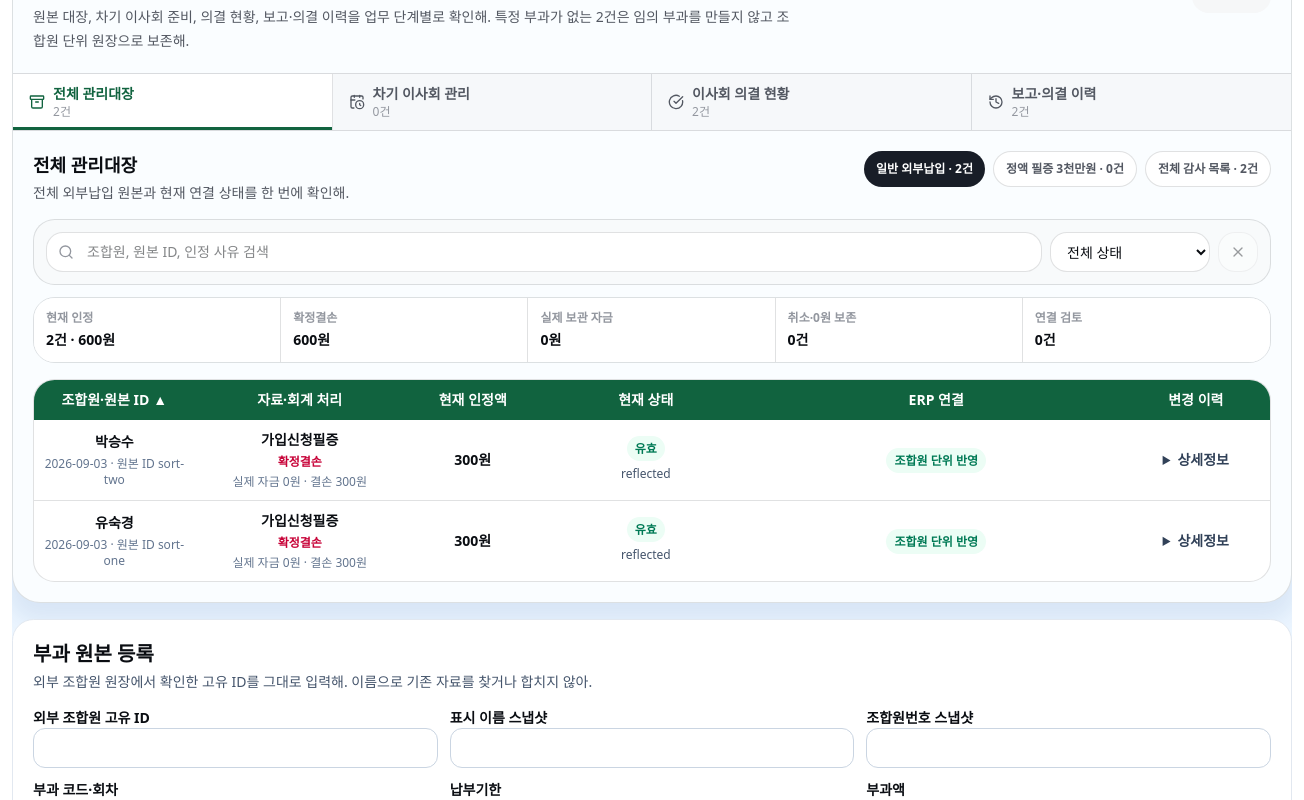
Scenario: collection ledger page › sorts external recognitions by Korean member name in both directions
This screenshot has width=1304, height=800.
(page scrolled)
Click the button with aria-label "조합원 내림차순으로 전환": (114, 400) [62,390,167,410]
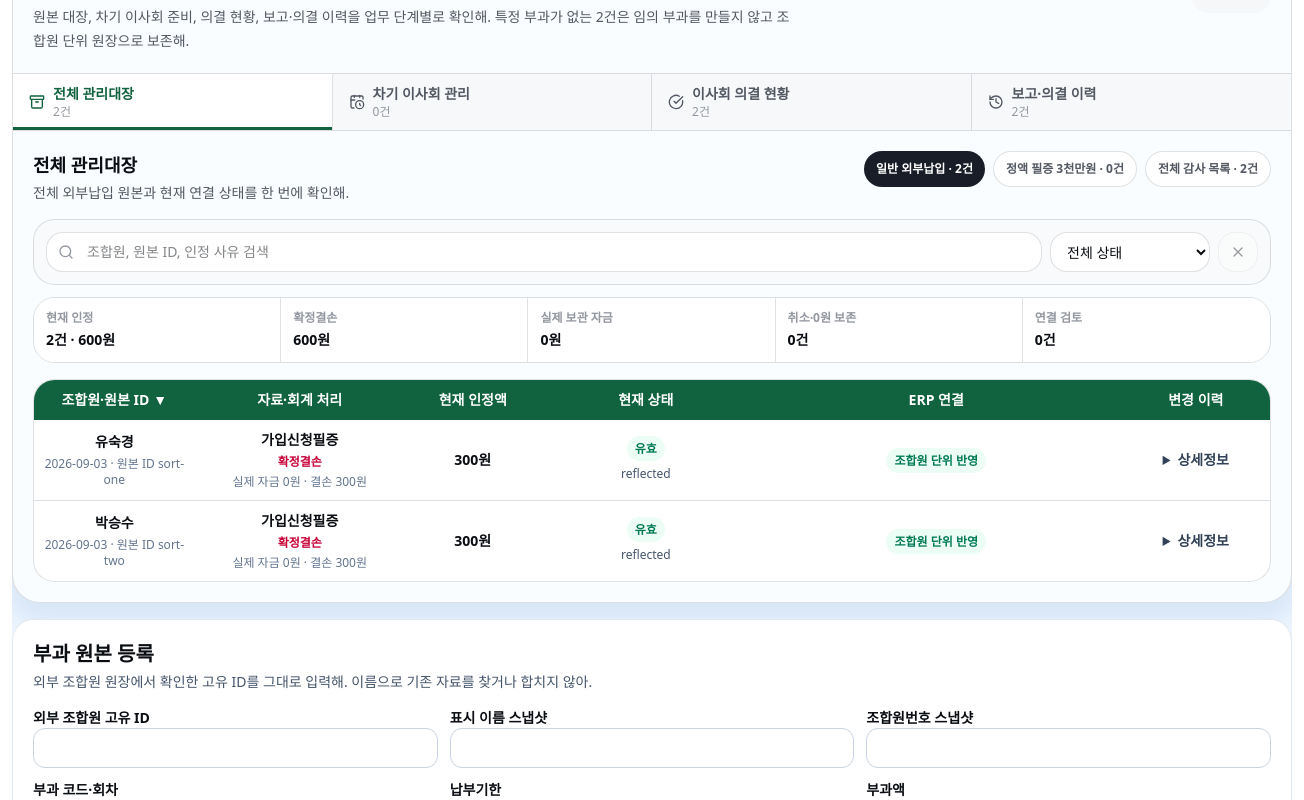
Expected: the button with aria-label "조합원 오름차순으로 전환" is shown, [62,390,167,410]
